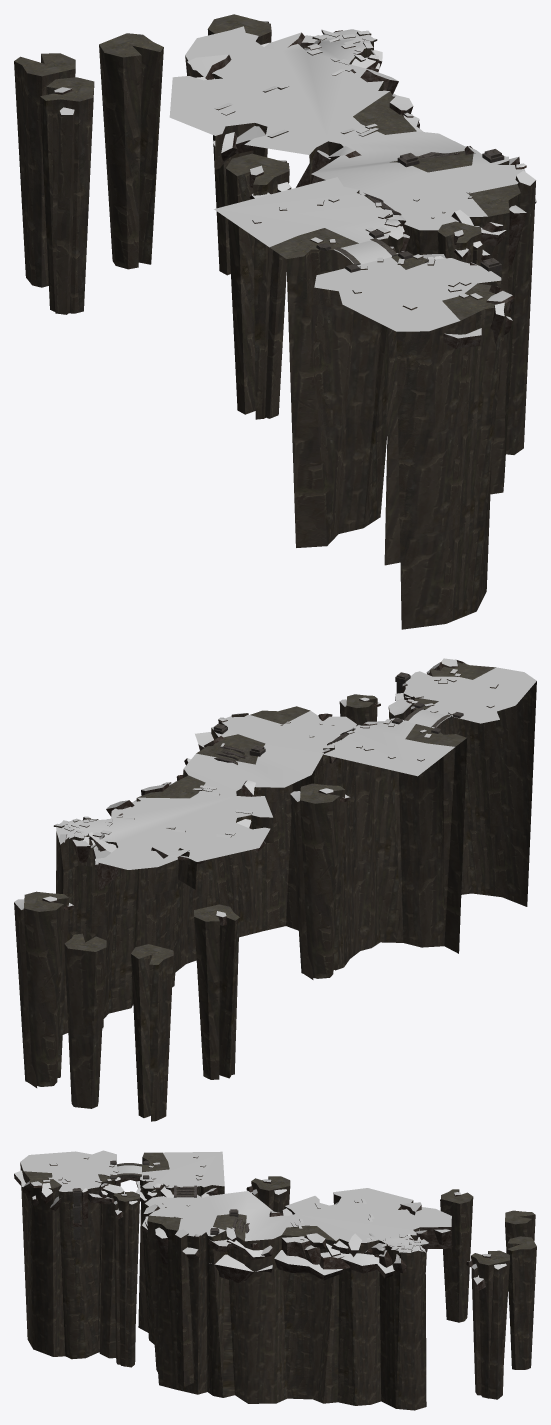
Rendered from common_underground_guanka02.FBX.
The picture shows the model from 3 angles, top to bottom: view 1: azimuth 30°, elevation 25°; view 2: azimuth 150°, elevation 25°; view 3: azimuth 270°, elevation 25°; orthographic projection. The views are drawn at different scales.
Parts seen in each view (by area): view 1: common_underground_guanka02; view 2: common_underground_guanka02; view 3: common_underground_guanka02.
Part boxes in pixels (x1=…): common_underground_guanka02: x1=14, y1=14, x2=536, y2=629; common_underground_guanka02: x1=14, y1=658, x2=536, y2=1121; common_underground_guanka02: x1=14, y1=1150, x2=536, y2=1410.
Size of the model in its own units: 57.14 by 138 by 51.35.
